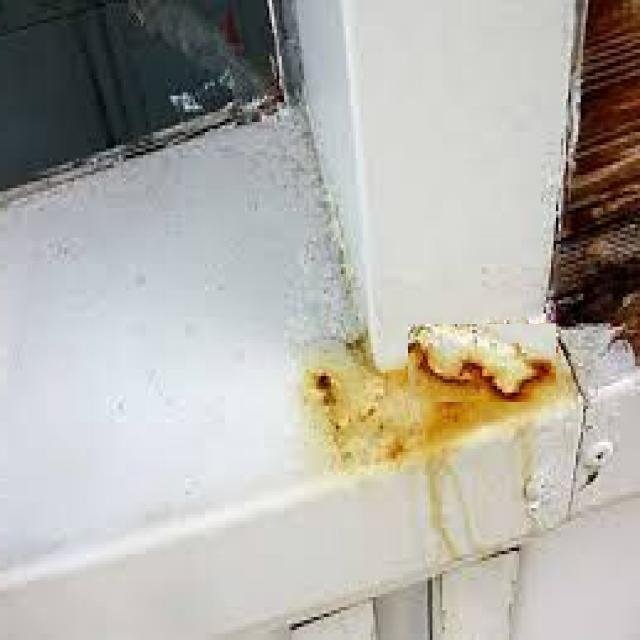Corrosion: (409, 327, 521, 428), (493, 361, 558, 403), (314, 371, 337, 406)
